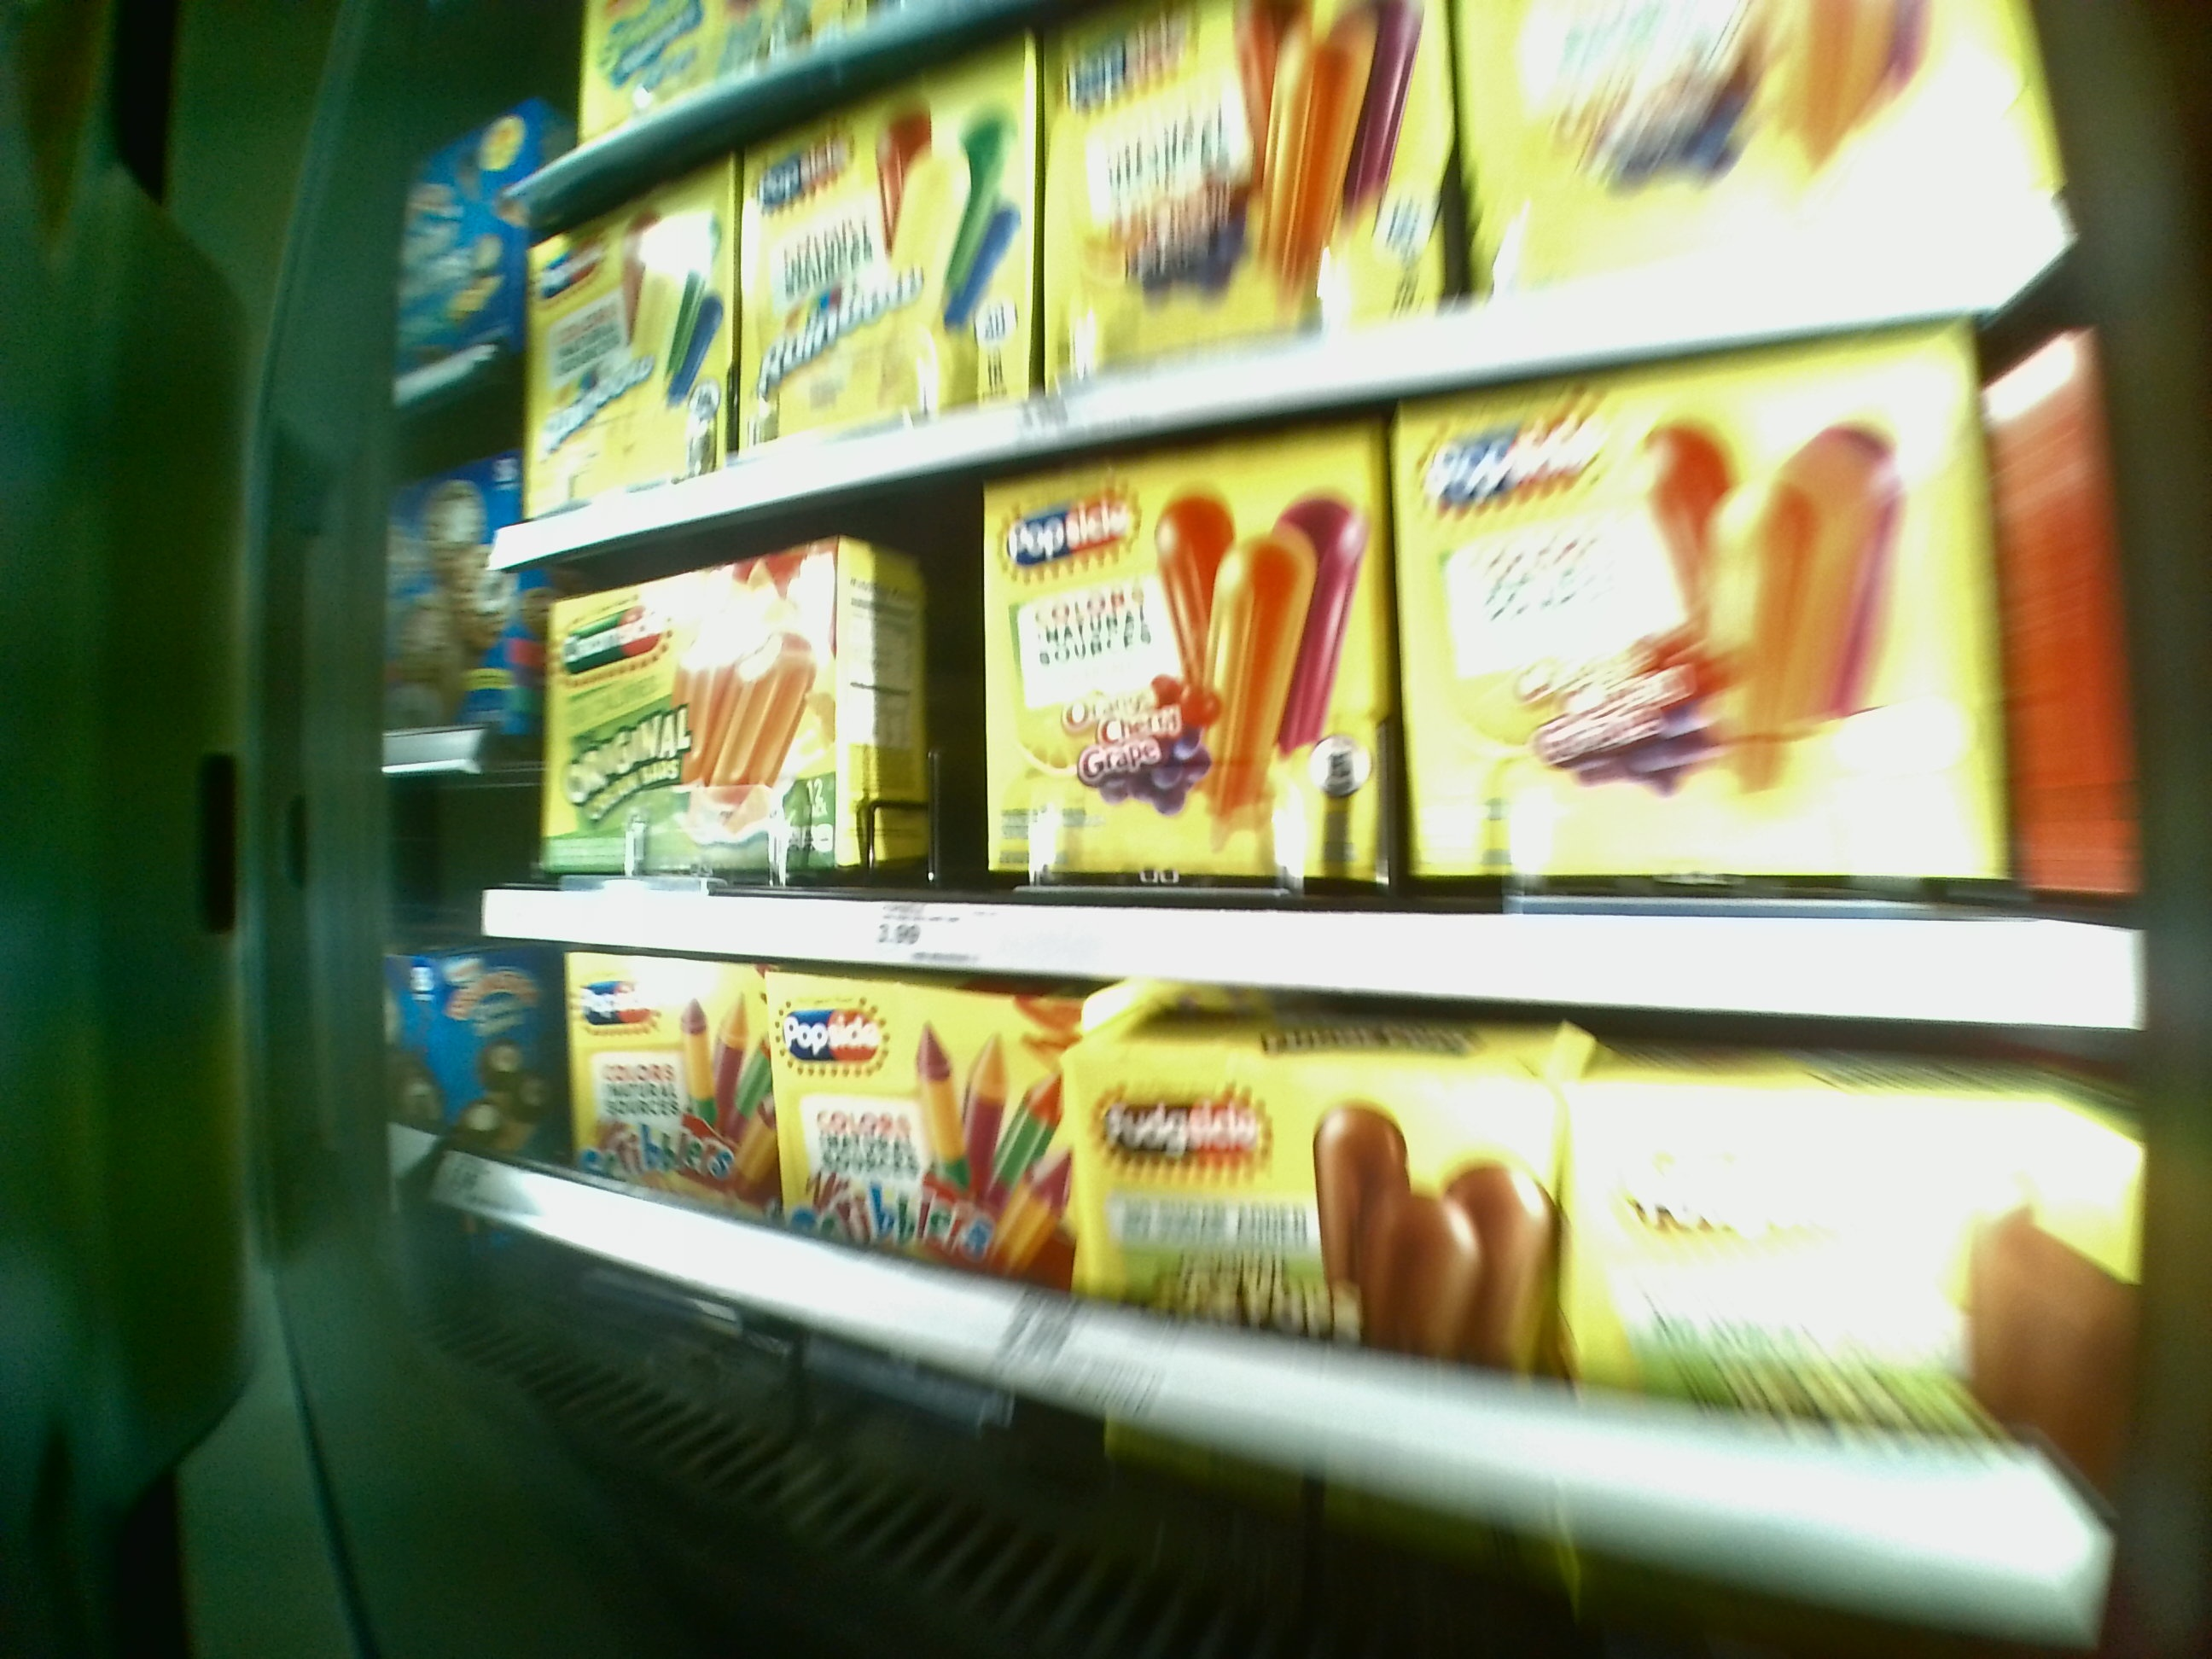shelf: (509, 967, 2116, 1600), (495, 455, 2163, 955)
